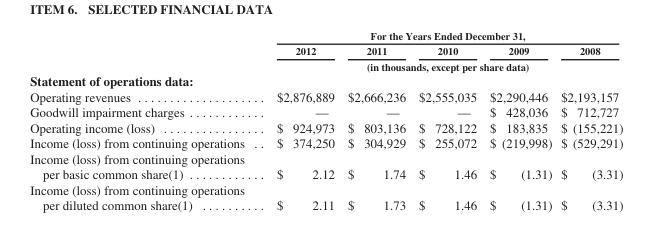table: (29, 29, 622, 212)
table column: (29, 29, 260, 212), (260, 29, 340, 212), (482, 29, 555, 212), (340, 29, 411, 212), (411, 29, 482, 212), (555, 29, 622, 212)
table column header: (29, 29, 622, 72)
table projected row header: (29, 72, 622, 88)
table row: (29, 150, 622, 181), (29, 181, 622, 212), (29, 42, 622, 58), (29, 72, 622, 88), (29, 88, 622, 104), (29, 119, 622, 135), (29, 104, 622, 119), (29, 135, 622, 150), (29, 58, 622, 72), (29, 29, 622, 42)
table spanning cell: (260, 58, 622, 72), (260, 29, 622, 42)
